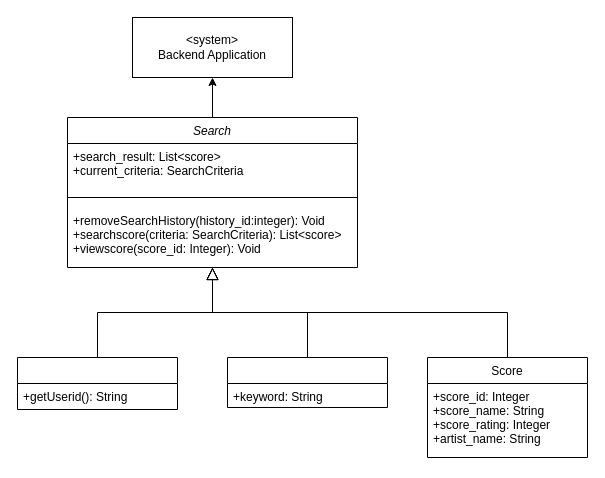
The diagram is 605 pixels wide and 478 high, and some of its shapes have lost their labels. Each missing label, with the box of its shape:
AuthenticatedUser: (16, 356, 178, 410)
searchCriteria: (226, 356, 388, 408)
